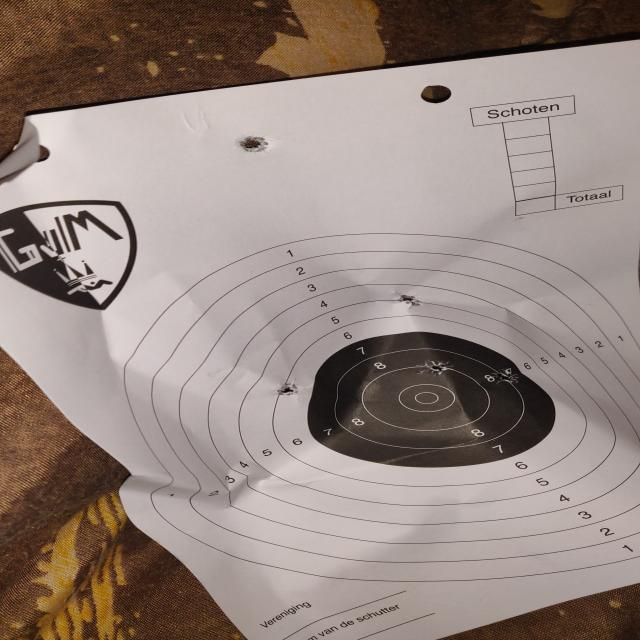0: (237, 134, 276, 154)
5: (394, 289, 426, 308)
6: (273, 381, 301, 397)
8: (488, 368, 522, 384)
9: (418, 360, 454, 375)
Target: (123, 232, 640, 582)
black_contour: (306, 332, 557, 469)
